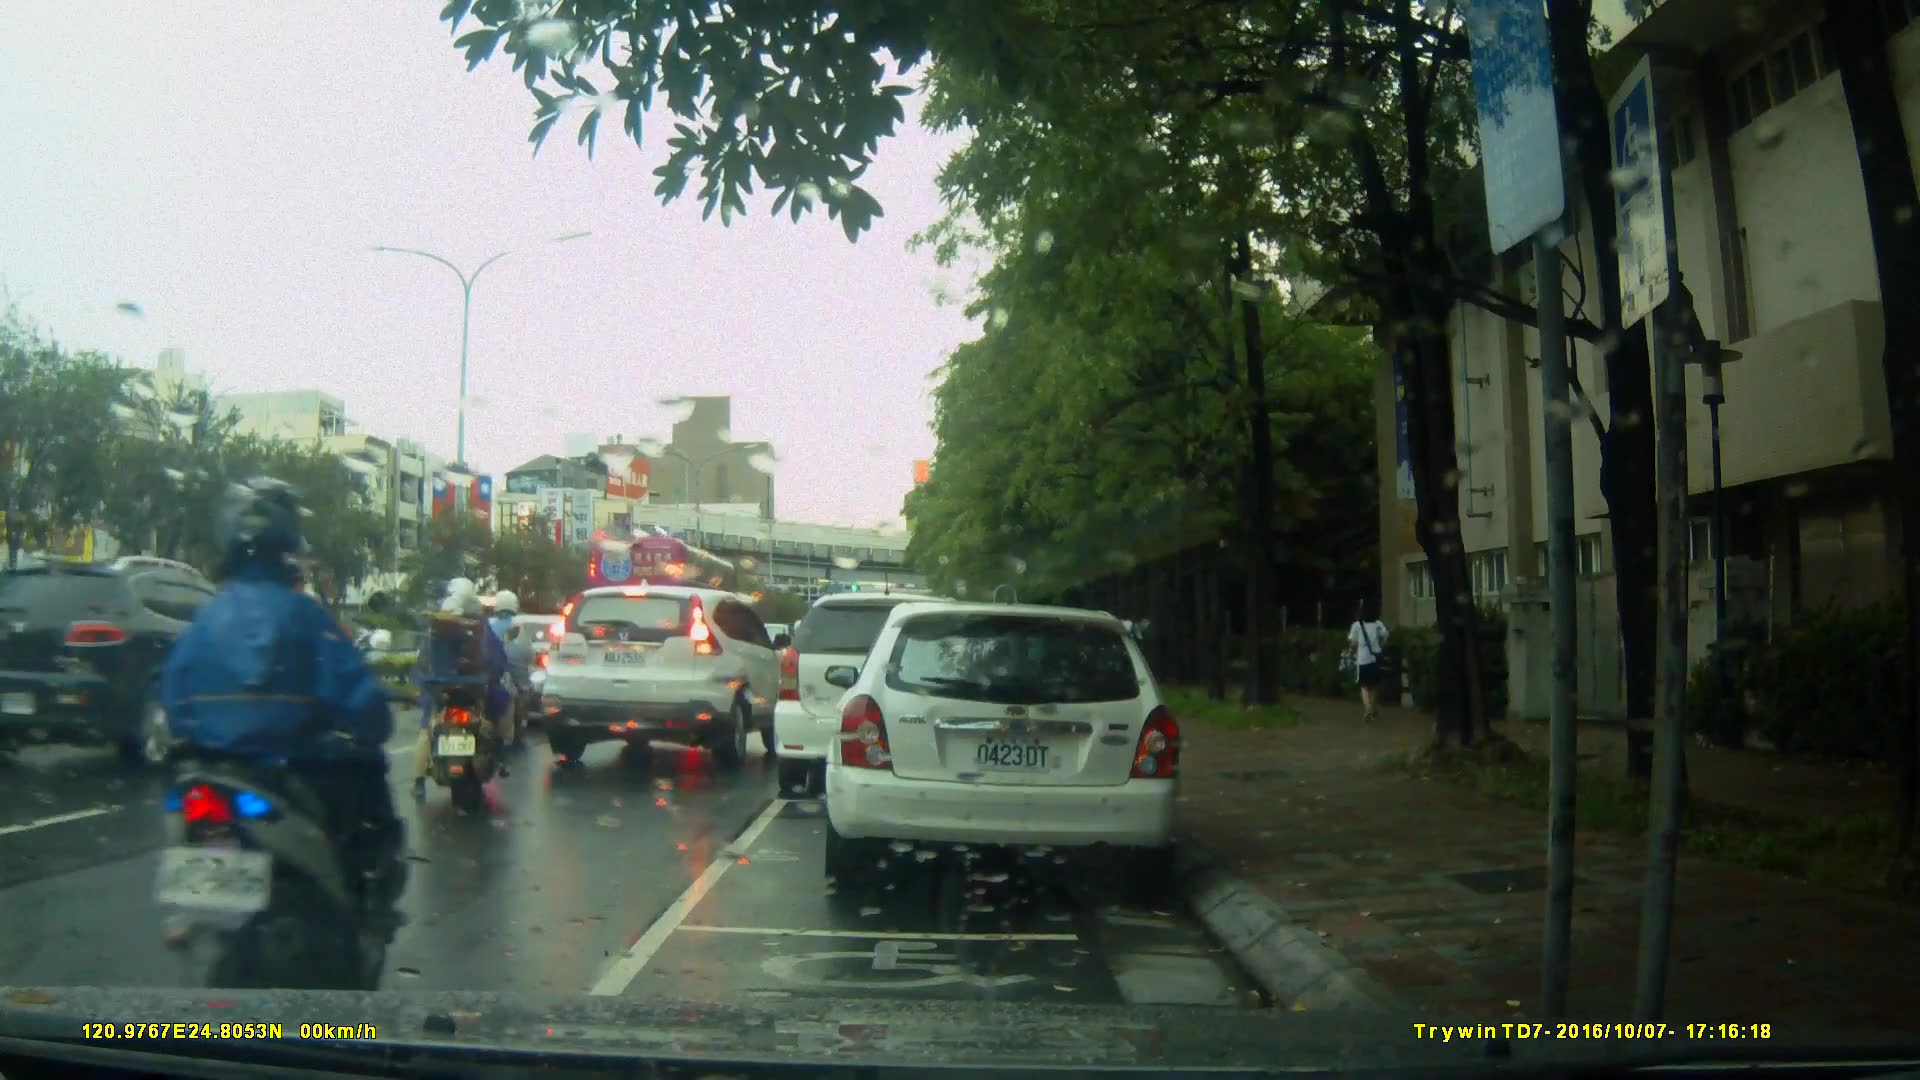pedestrian: (1334, 588, 1397, 738), (1115, 603, 1141, 682)
rider: (162, 478, 403, 1001), (416, 585, 518, 805), (454, 592, 529, 768)
vehicle: (835, 594, 1194, 898), (1, 552, 319, 768), (527, 584, 806, 776), (776, 590, 1026, 784), (584, 533, 740, 634)
